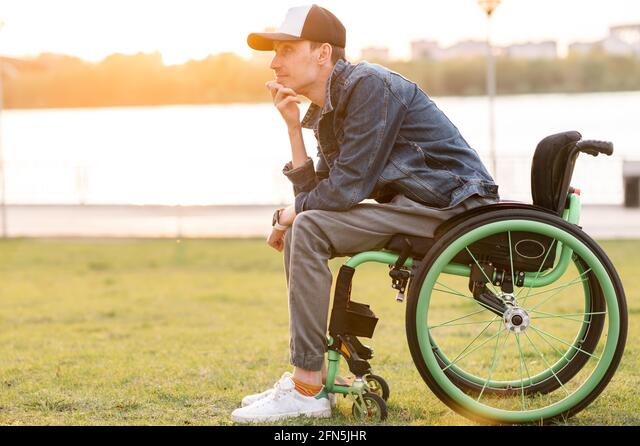wheelchair: (226, 3, 630, 421)
